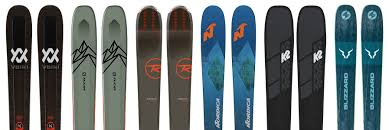skis: (263, 4, 327, 130), (4, 2, 65, 130), (199, 3, 258, 130), (135, 4, 194, 130), (71, 4, 129, 130), (333, 2, 384, 130)
